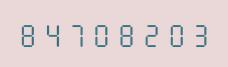eight: (17, 20, 40, 47), (113, 20, 136, 47)
four: (41, 20, 64, 47)
seven: (65, 20, 88, 47)
three: (185, 20, 208, 47)
two: (137, 20, 160, 47)
zero: (89, 20, 112, 47), (161, 20, 184, 47)
